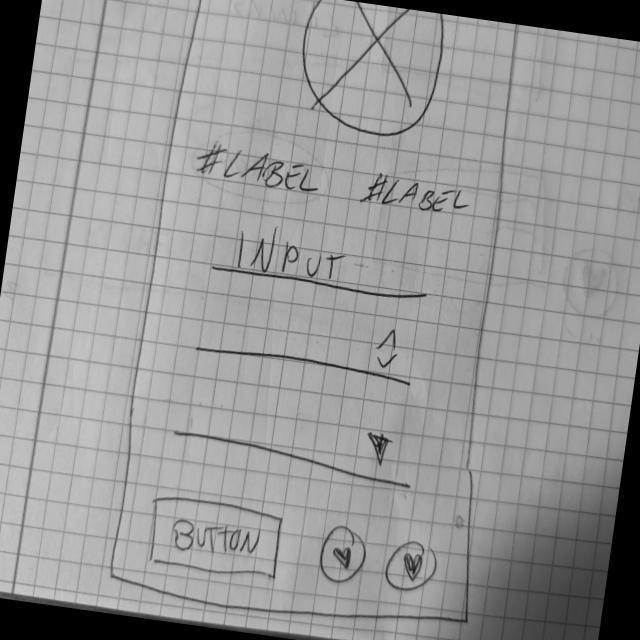button: (145, 489, 290, 586)
container: (96, 1, 554, 640)
icon-button: (314, 521, 374, 589), (381, 536, 443, 599)
image: (290, 1, 451, 149)
input: (209, 219, 436, 308)
label: (192, 137, 327, 200), (362, 168, 476, 222)
number-input: (191, 299, 421, 392)
select: (166, 398, 421, 498)
